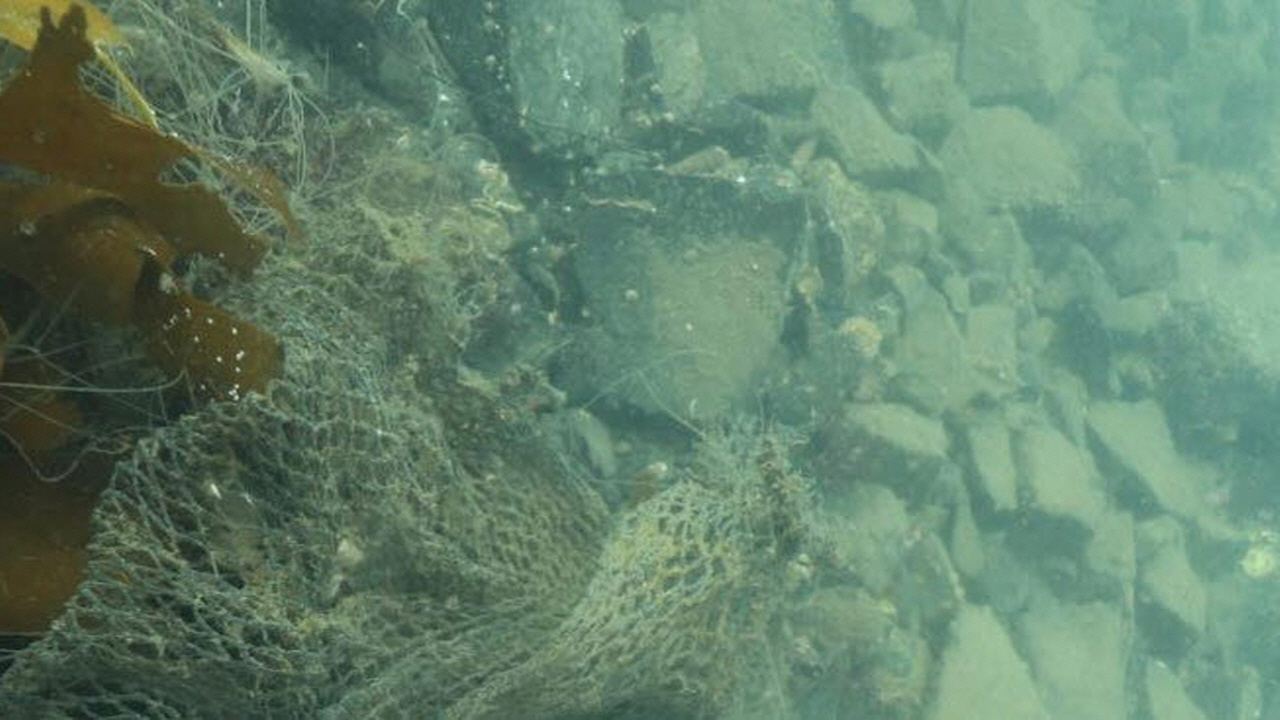fish net: (0, 268, 792, 718)
